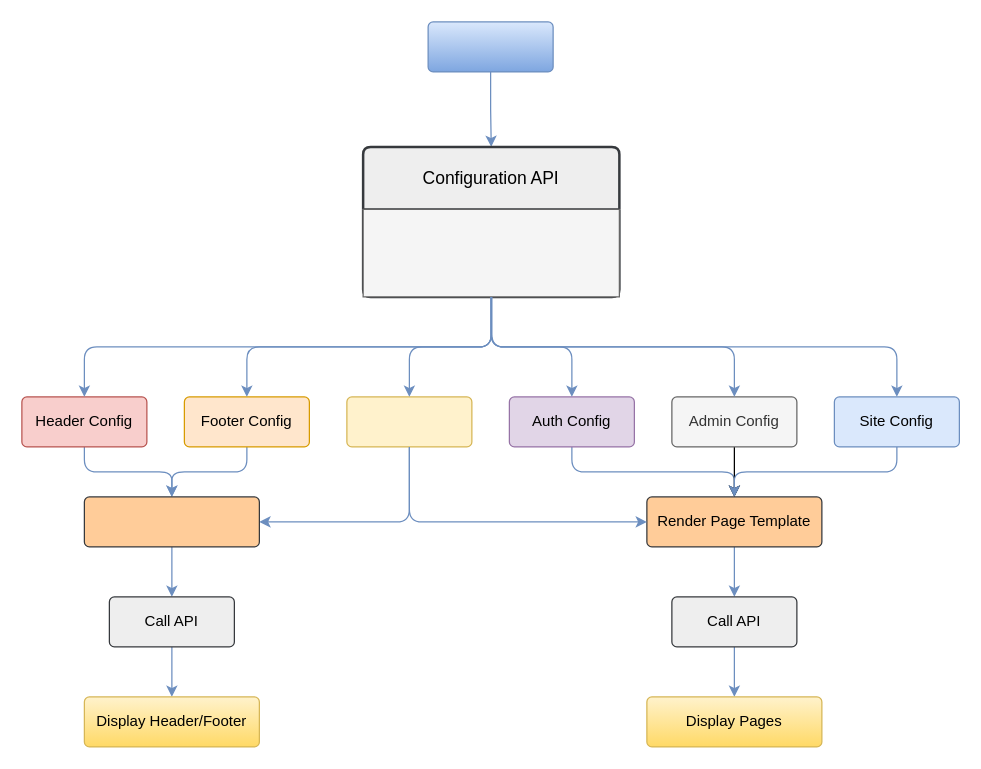
Image size: 981x769. Some labels were removed from this diagram. Each missing label, with the centre of its shape:
"+ Auth Config + Admin Config + Site Config + Meta, Header and footer config" goes at point 490,252.
"Meta Config" goes at point 409,421.
"Open Application" goes at point 490,46.
"Render Header/Footer Template" goes at point 171,521.
